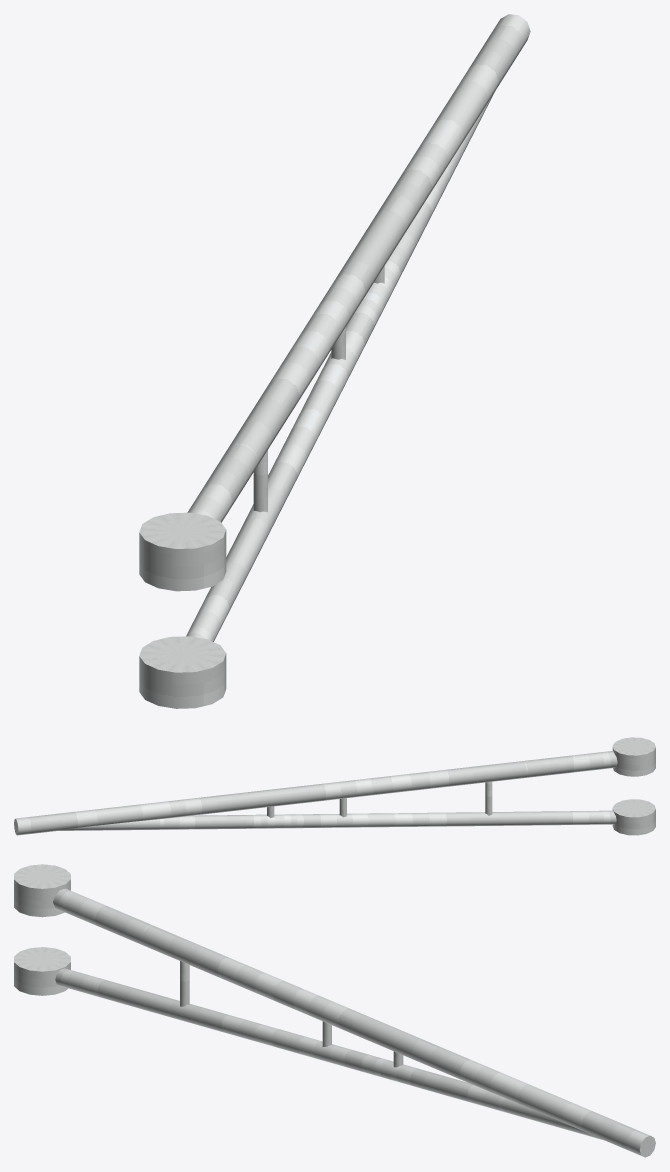
Rendered from trusssignalarm_diagonal8_inv.obj.
The picture shows the model from 3 angles, top to bottom: view 1: azimuth 30°, elevation 25°; view 2: azimuth 150°, elevation 25°; view 3: azimuth 270°, elevation 25°; orthographic projection. The views are drawn at different scales.
Parts seen in each view (by area): view 1: trusssignalarm_diagonal8_inv; view 2: trusssignalarm_diagonal8_inv; view 3: trusssignalarm_diagonal8_inv.
Part boxes in pixels (<box>): trusssignalarm_diagonal8_inv: <box>139,14,530,708</box>; trusssignalarm_diagonal8_inv: <box>14,737,655,835</box>; trusssignalarm_diagonal8_inv: <box>14,864,655,1157</box>.
Size of the model in its own units: 1 by 0.1835 by 0.9989.
